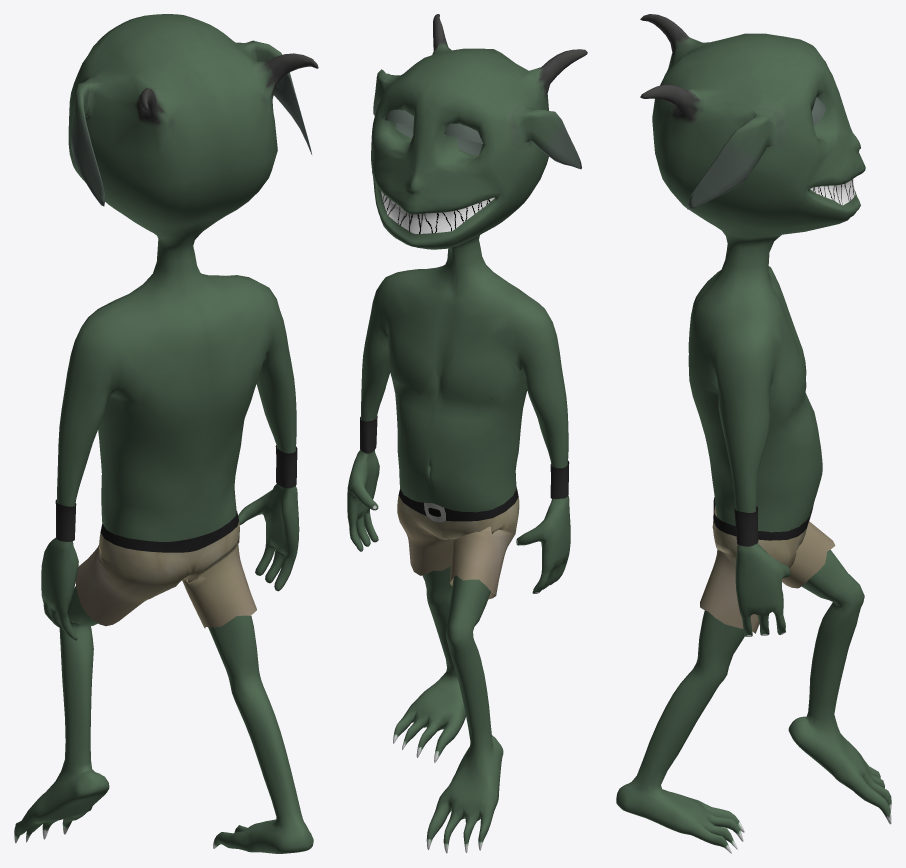
Rendered from lwjglcharactergoblin10_000013.obj.
3 renders of one model, left to right at view 1: azimuth 30°, elevation 25°; view 2: azimuth 150°, elevation 25°; view 3: azimuth 270°, elevation 25°, orthographic. The views are drawn at different scales.
Visible parts, largest first — view 1: Cube.002; view 2: Cube.002; view 3: Cube.002.
Part boxes in pixels (left/top/right/bottom): Cube.002: left=14, top=14, right=318, bottom=853; Cube.002: left=347, top=14, right=587, bottom=853; Cube.002: left=616, top=14, right=891, bottom=853.
Bounding box in the file's own units: 1.18 × 3.94 × 1.23.
